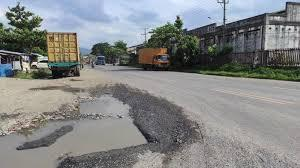Pothole: (0, 93, 180, 168)
